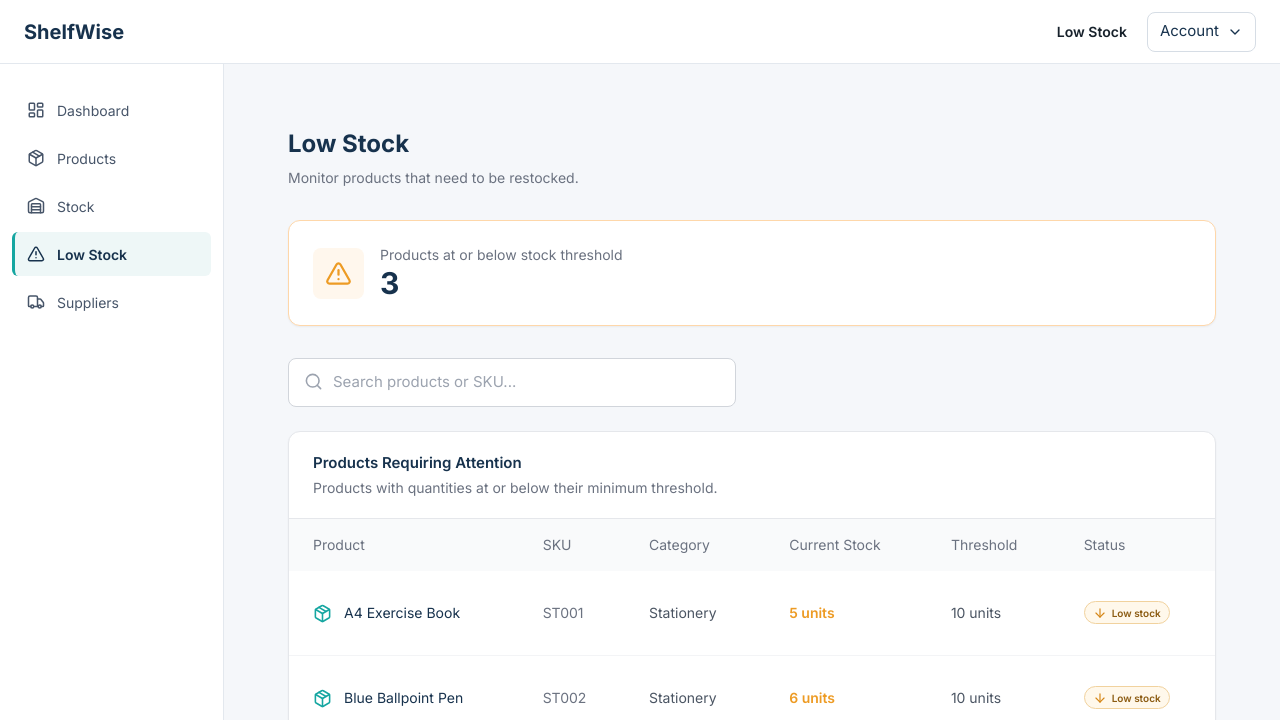
Scenario: LowStock page › shows the loaded low-stock count and keeps it unchanged when searching
Expected: the heading "3" is shown, top-left (380, 265), bottom-right (399, 301)
In the search field with placeholder "Search products or SKU...": [512, 382] box top-left (288, 358), bottom-right (736, 406), type "Cable"
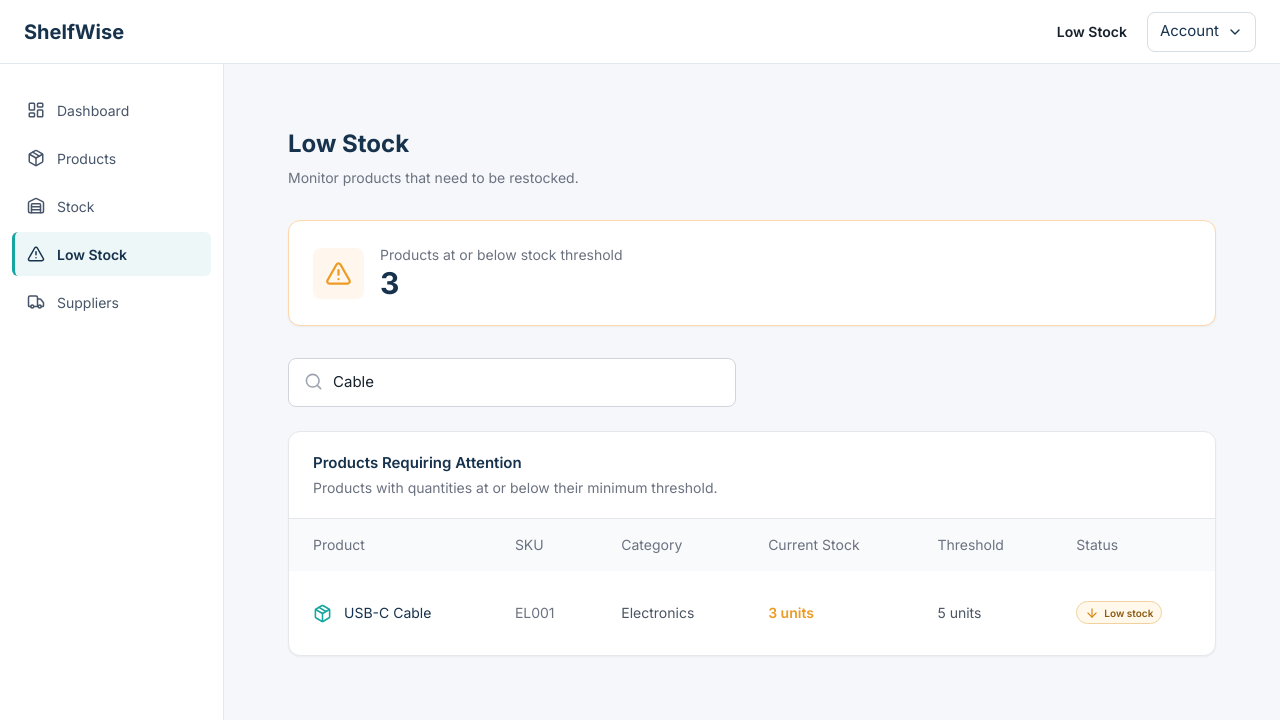
Expected: the heading "3" is shown, top-left (380, 265), bottom-right (399, 301)
Expected: the link "A4 Exercise Book" is gone
